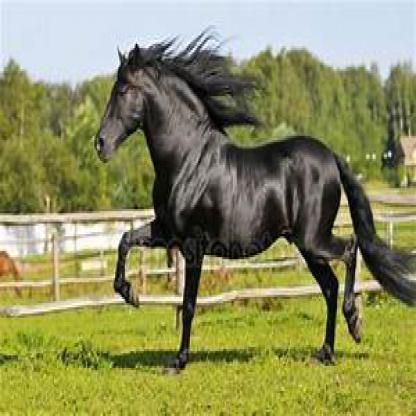horse: (95, 42, 414, 374)
